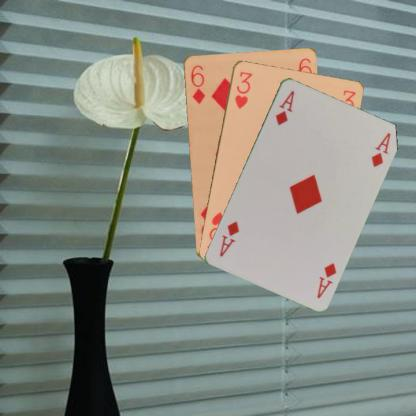3h: (232, 68, 253, 110)
6d: (188, 63, 206, 104)
Ad: (272, 87, 296, 127), (314, 260, 338, 300)
